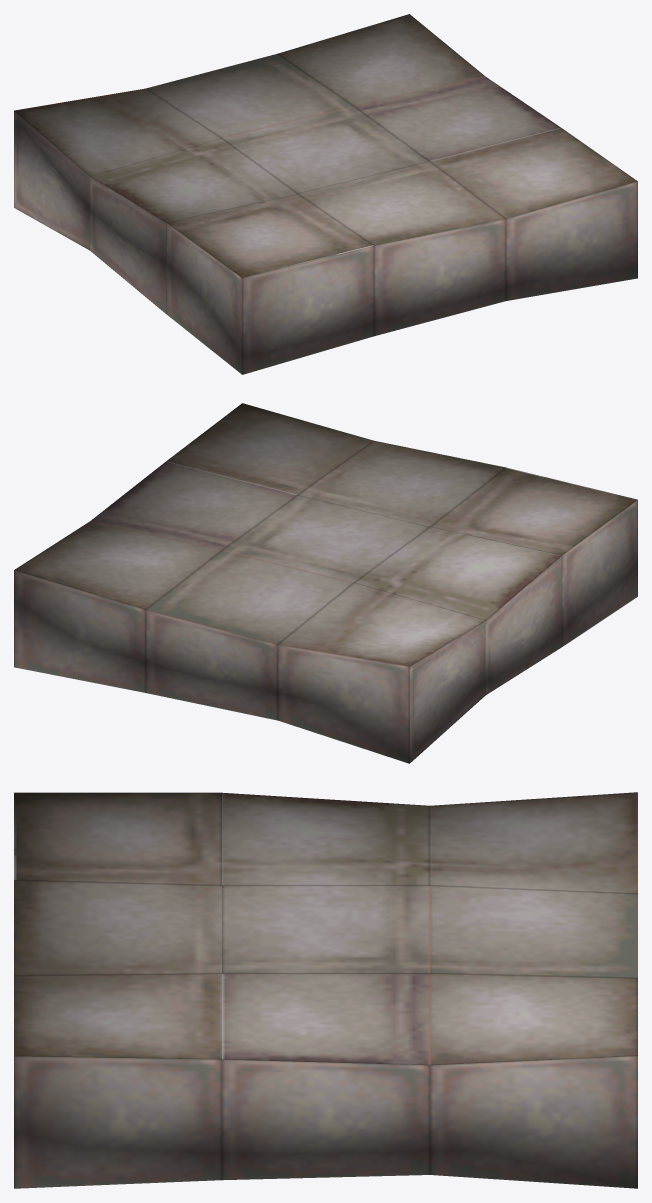
3 views of the same model, one above another, from view 1: azimuth 30°, elevation 25°; view 2: azimuth 150°, elevation 25°; view 3: azimuth 270°, elevation 25° (orthographic). The views are drawn at different scales.
Parts seen in each view (by area): view 1: T1L3M003_1; view 2: T1L3M003_1; view 3: T1L3M003_1.
Boxes of the visible parts, bbox=[...] form: T1L3M003_1: bbox=[14, 14, 637, 374]; T1L3M003_1: bbox=[14, 403, 637, 763]; T1L3M003_1: bbox=[14, 792, 637, 1188].
Size of the model in its own units: 2 by 0.4697 by 2.
Materials: 1 (1 with a texture image).
